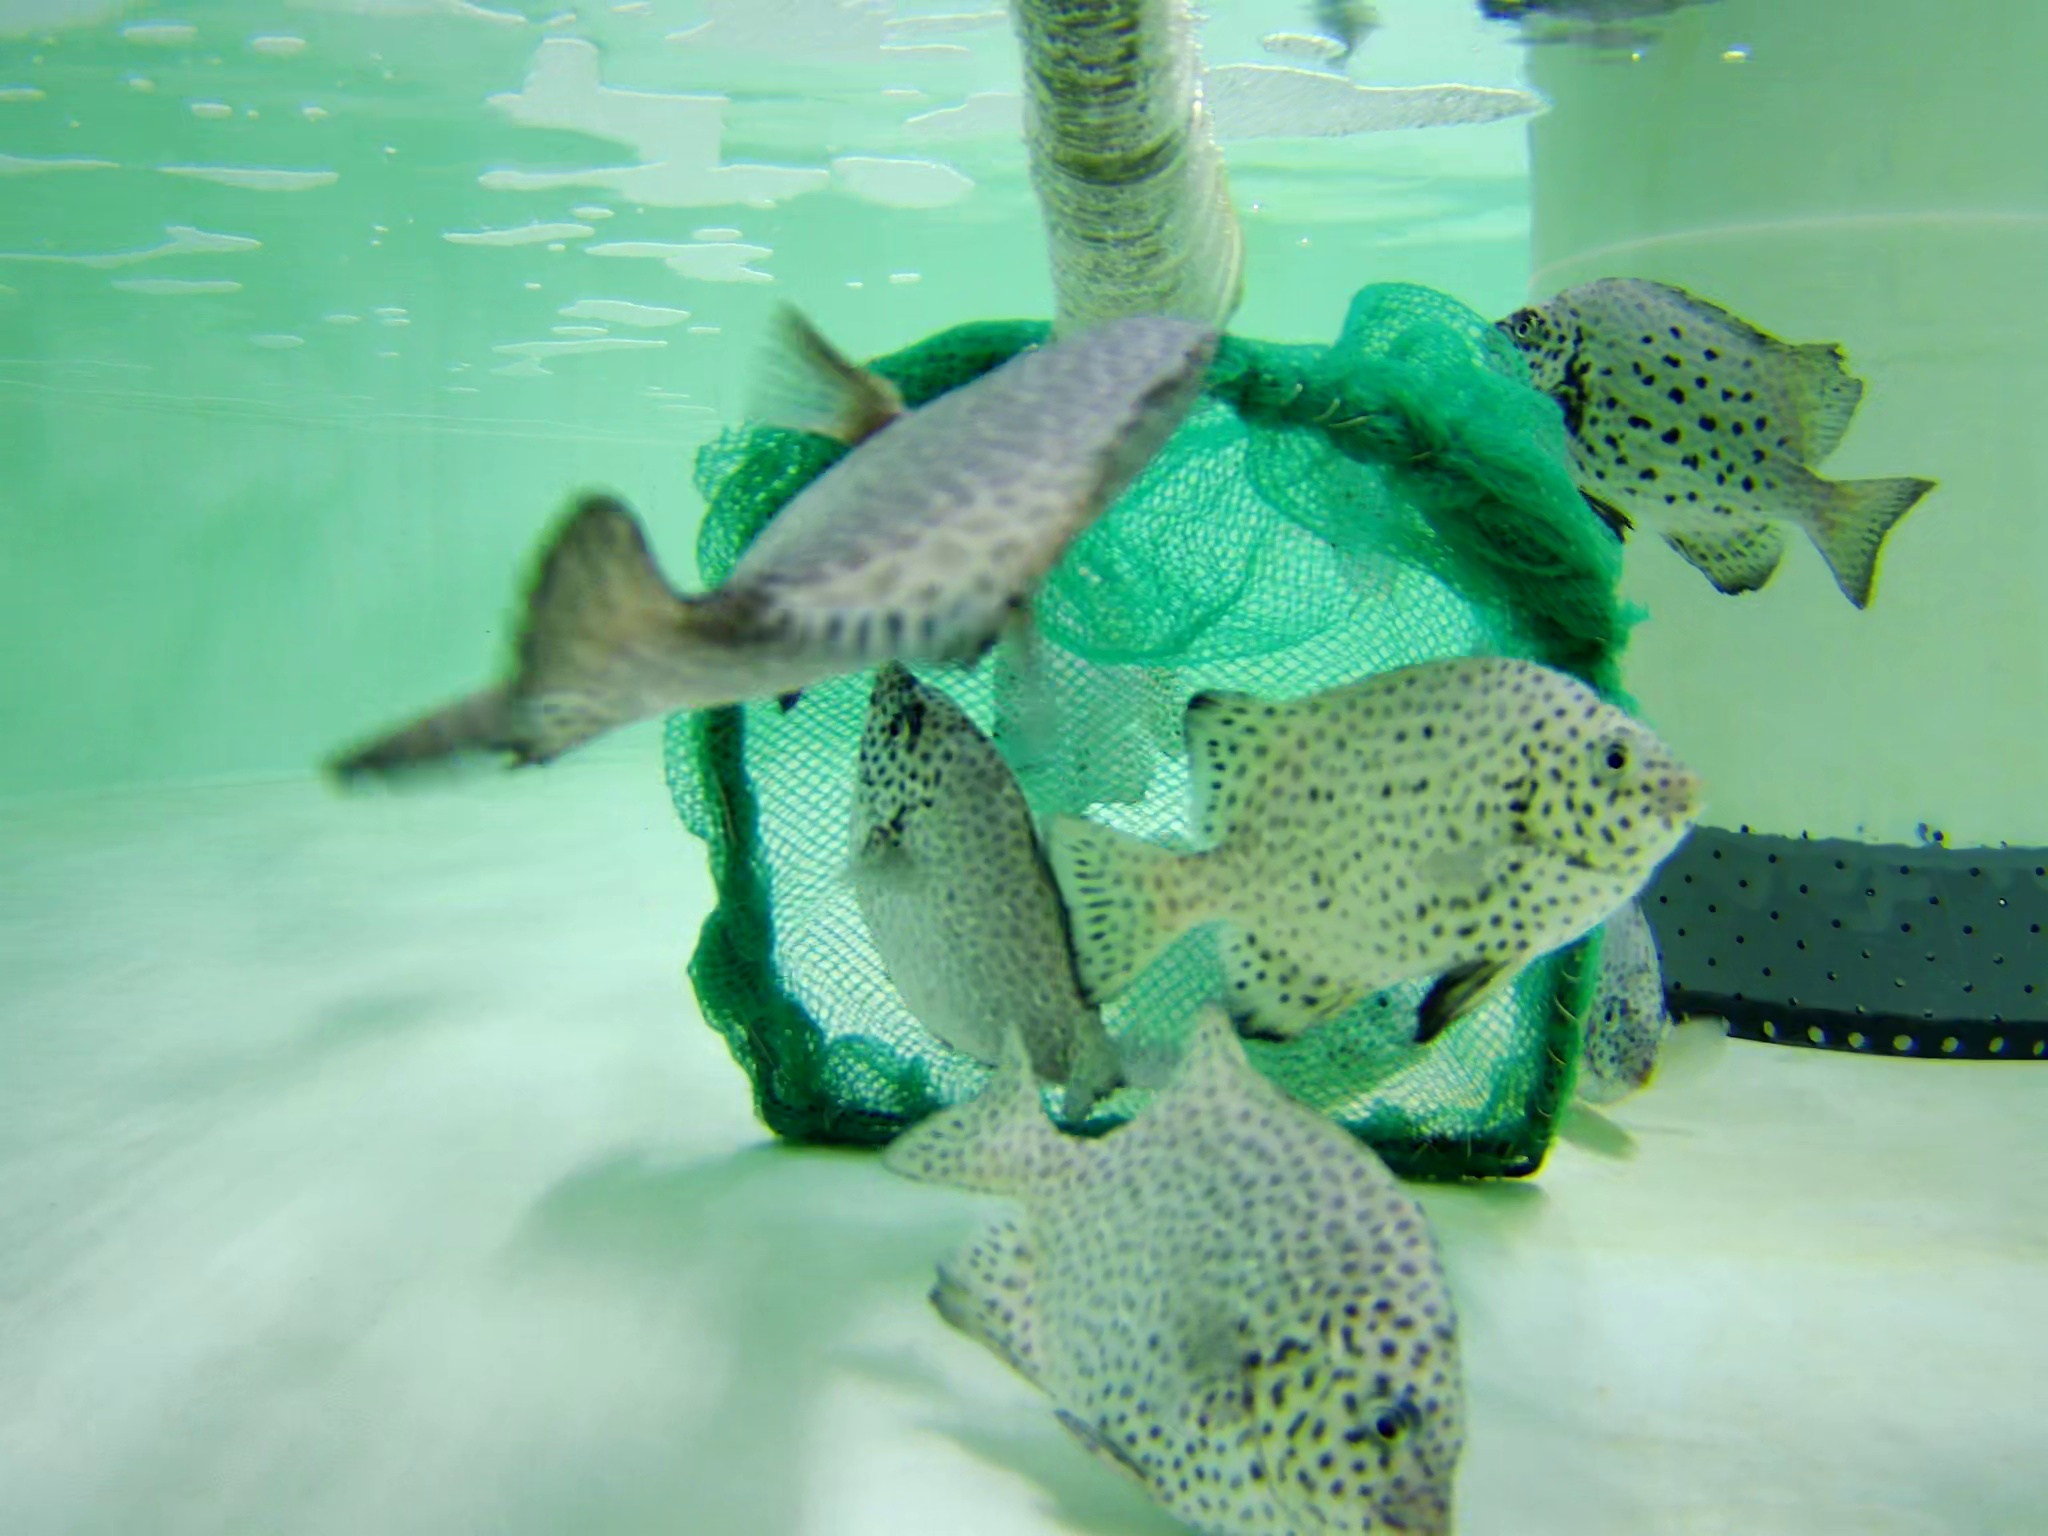fish: (316, 297, 1221, 745), (890, 936, 1498, 1536), (1021, 657, 1700, 1010), (1448, 250, 1932, 602), (814, 663, 1140, 1123), (1050, 945, 1427, 1121), (1585, 878, 1671, 1129)
